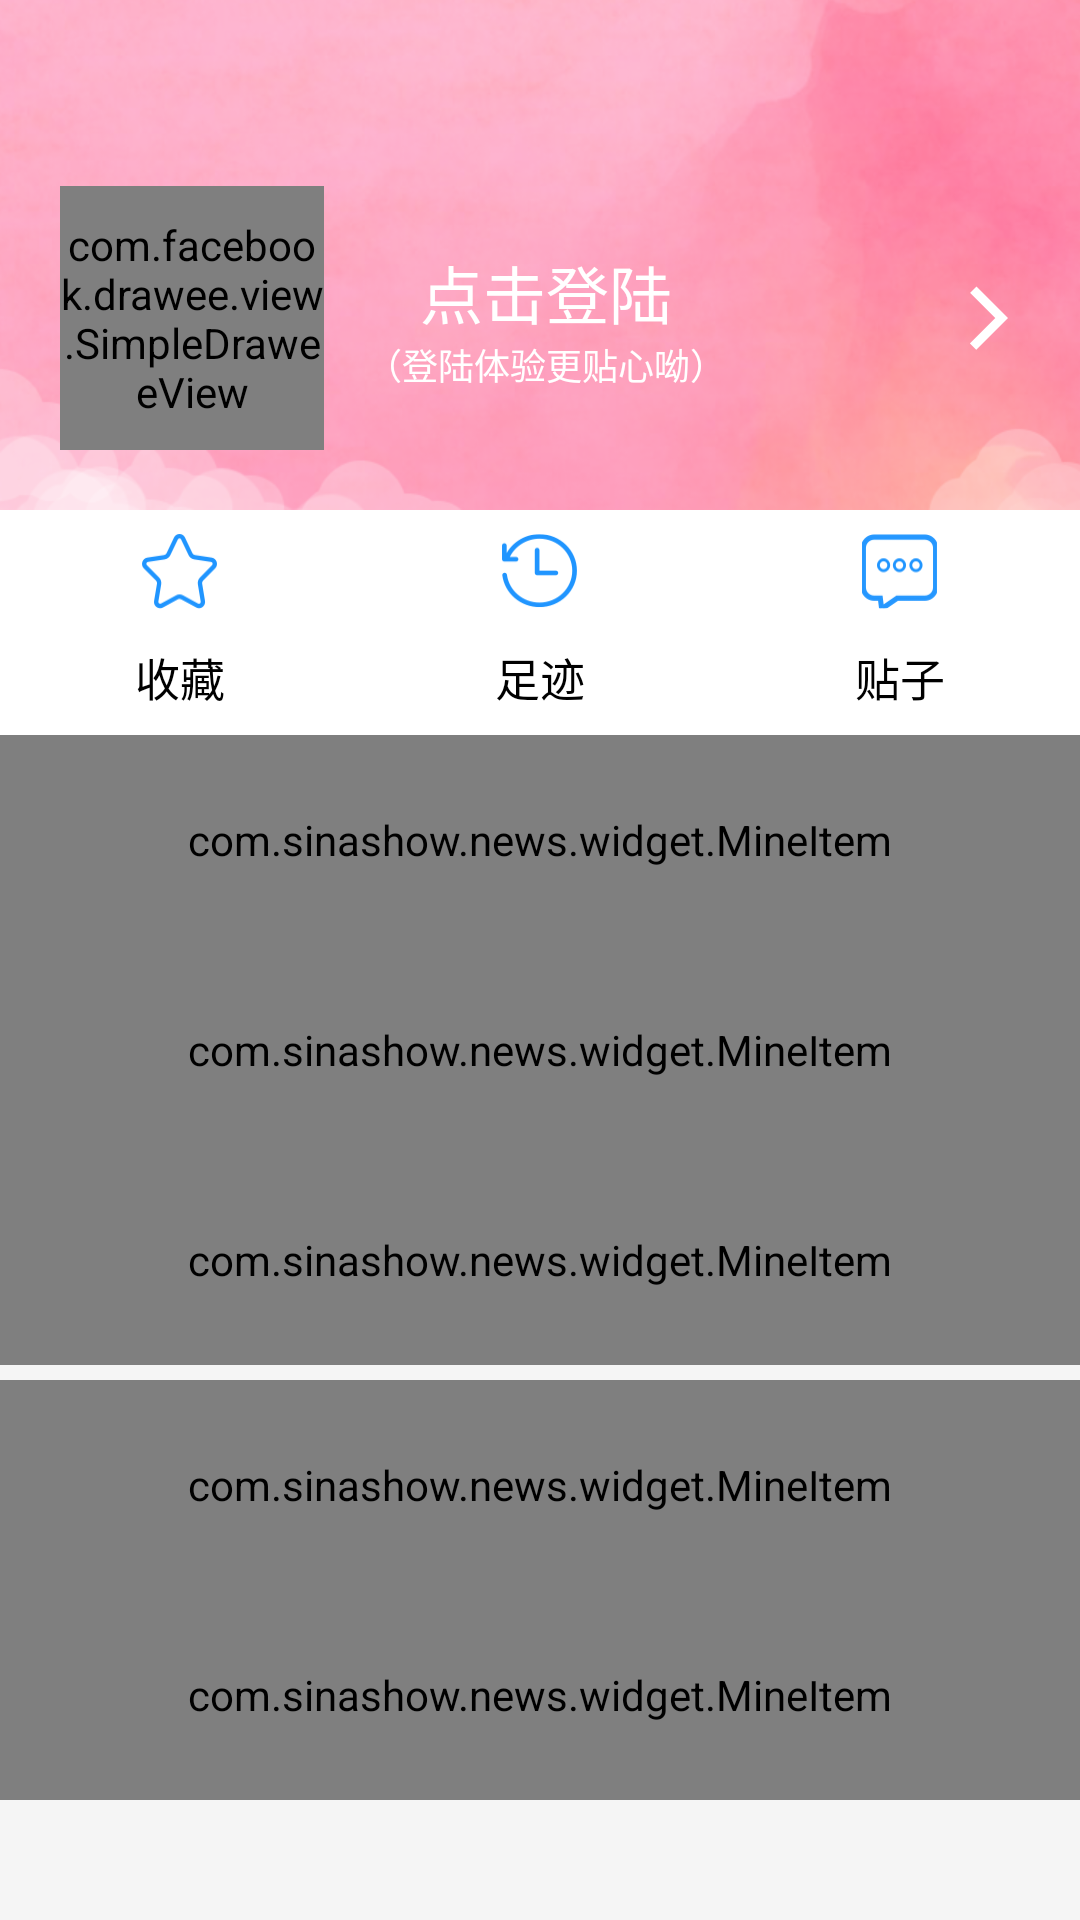

Screen size 1080px x 1920px. Icon name, then its center in pixels as point (x, y):
arrow right: point (989, 318)
collect: point (179, 571)
record: point (539, 570)
tiezi: point (899, 571)
